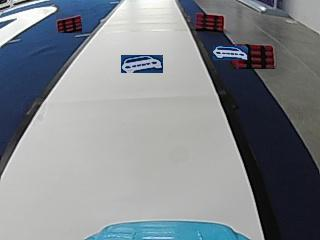bomb: (195, 13, 225, 31)
